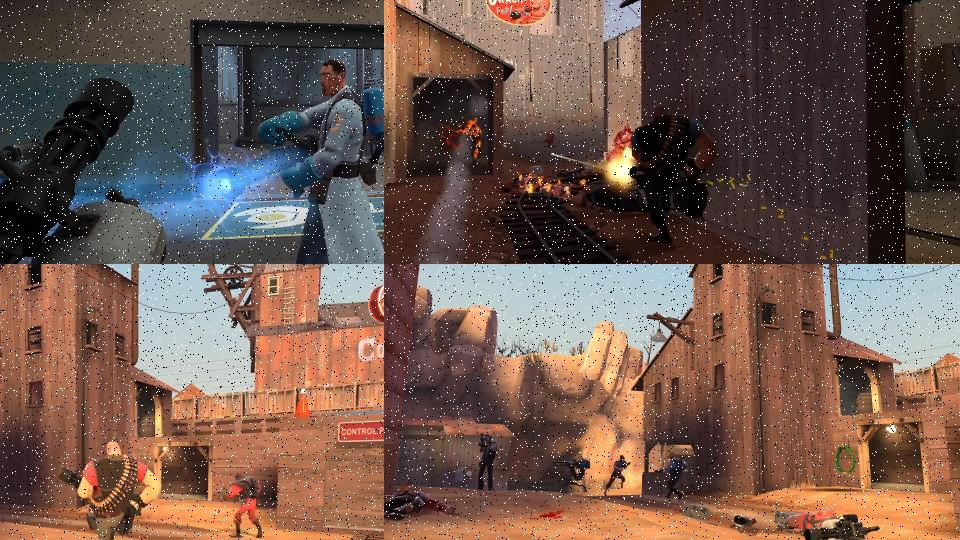Enemy: (213, 58, 384, 264), (627, 103, 719, 244), (57, 440, 162, 540), (223, 474, 263, 540), (647, 453, 691, 502), (776, 512, 844, 535), (477, 432, 499, 493), (607, 453, 636, 496)
